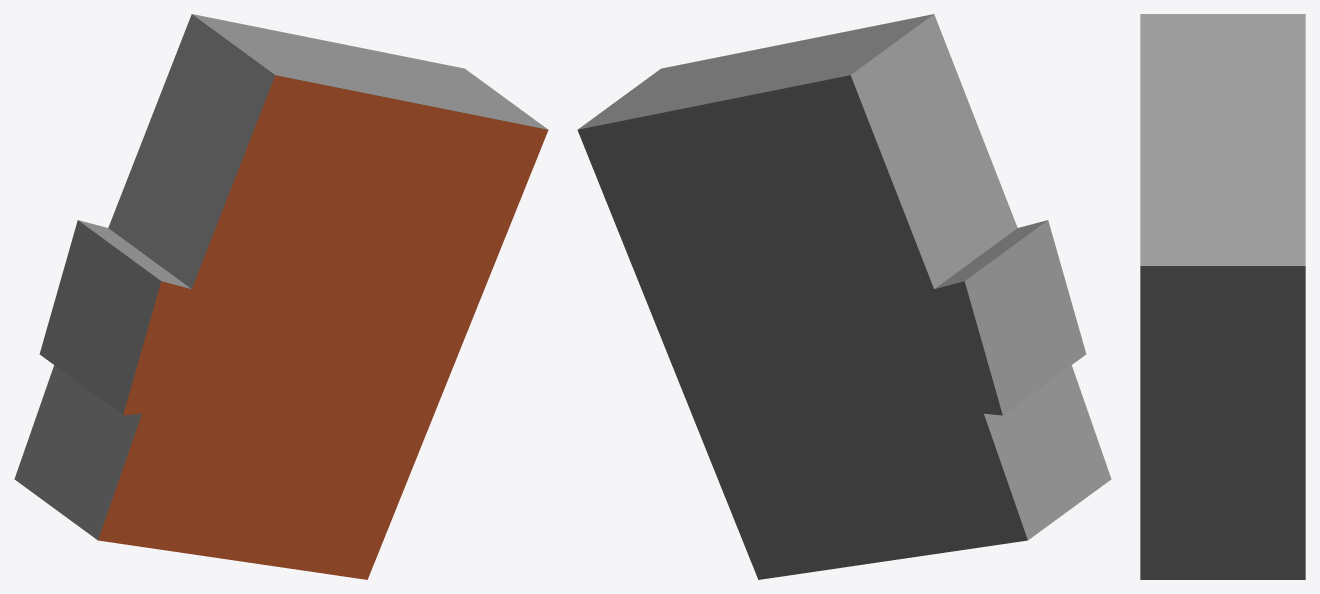
Rendered from construction_4777_assumed_A_Casa_h6m.obj.
The picture shows the model from 3 angles, left to right: view 1: azimuth 30°, elevation 25°; view 2: azimuth 150°, elevation 25°; view 3: azimuth 270°, elevation 25°; orthographic projection.
Visible parts, largest first — view 1: construction_4777_assumed_A_Casa; view 2: construction_4777_assumed_A_Casa; view 3: construction_4777_assumed_A_Casa.
Part boxes in pixels (<box>): construction_4777_assumed_A_Casa: <box>14,14,548,579</box>; construction_4777_assumed_A_Casa: <box>577,14,1111,579</box>; construction_4777_assumed_A_Casa: <box>1140,14,1305,579</box>.
Size of the model in its own units: 18.68 by 20.89 by 6.
